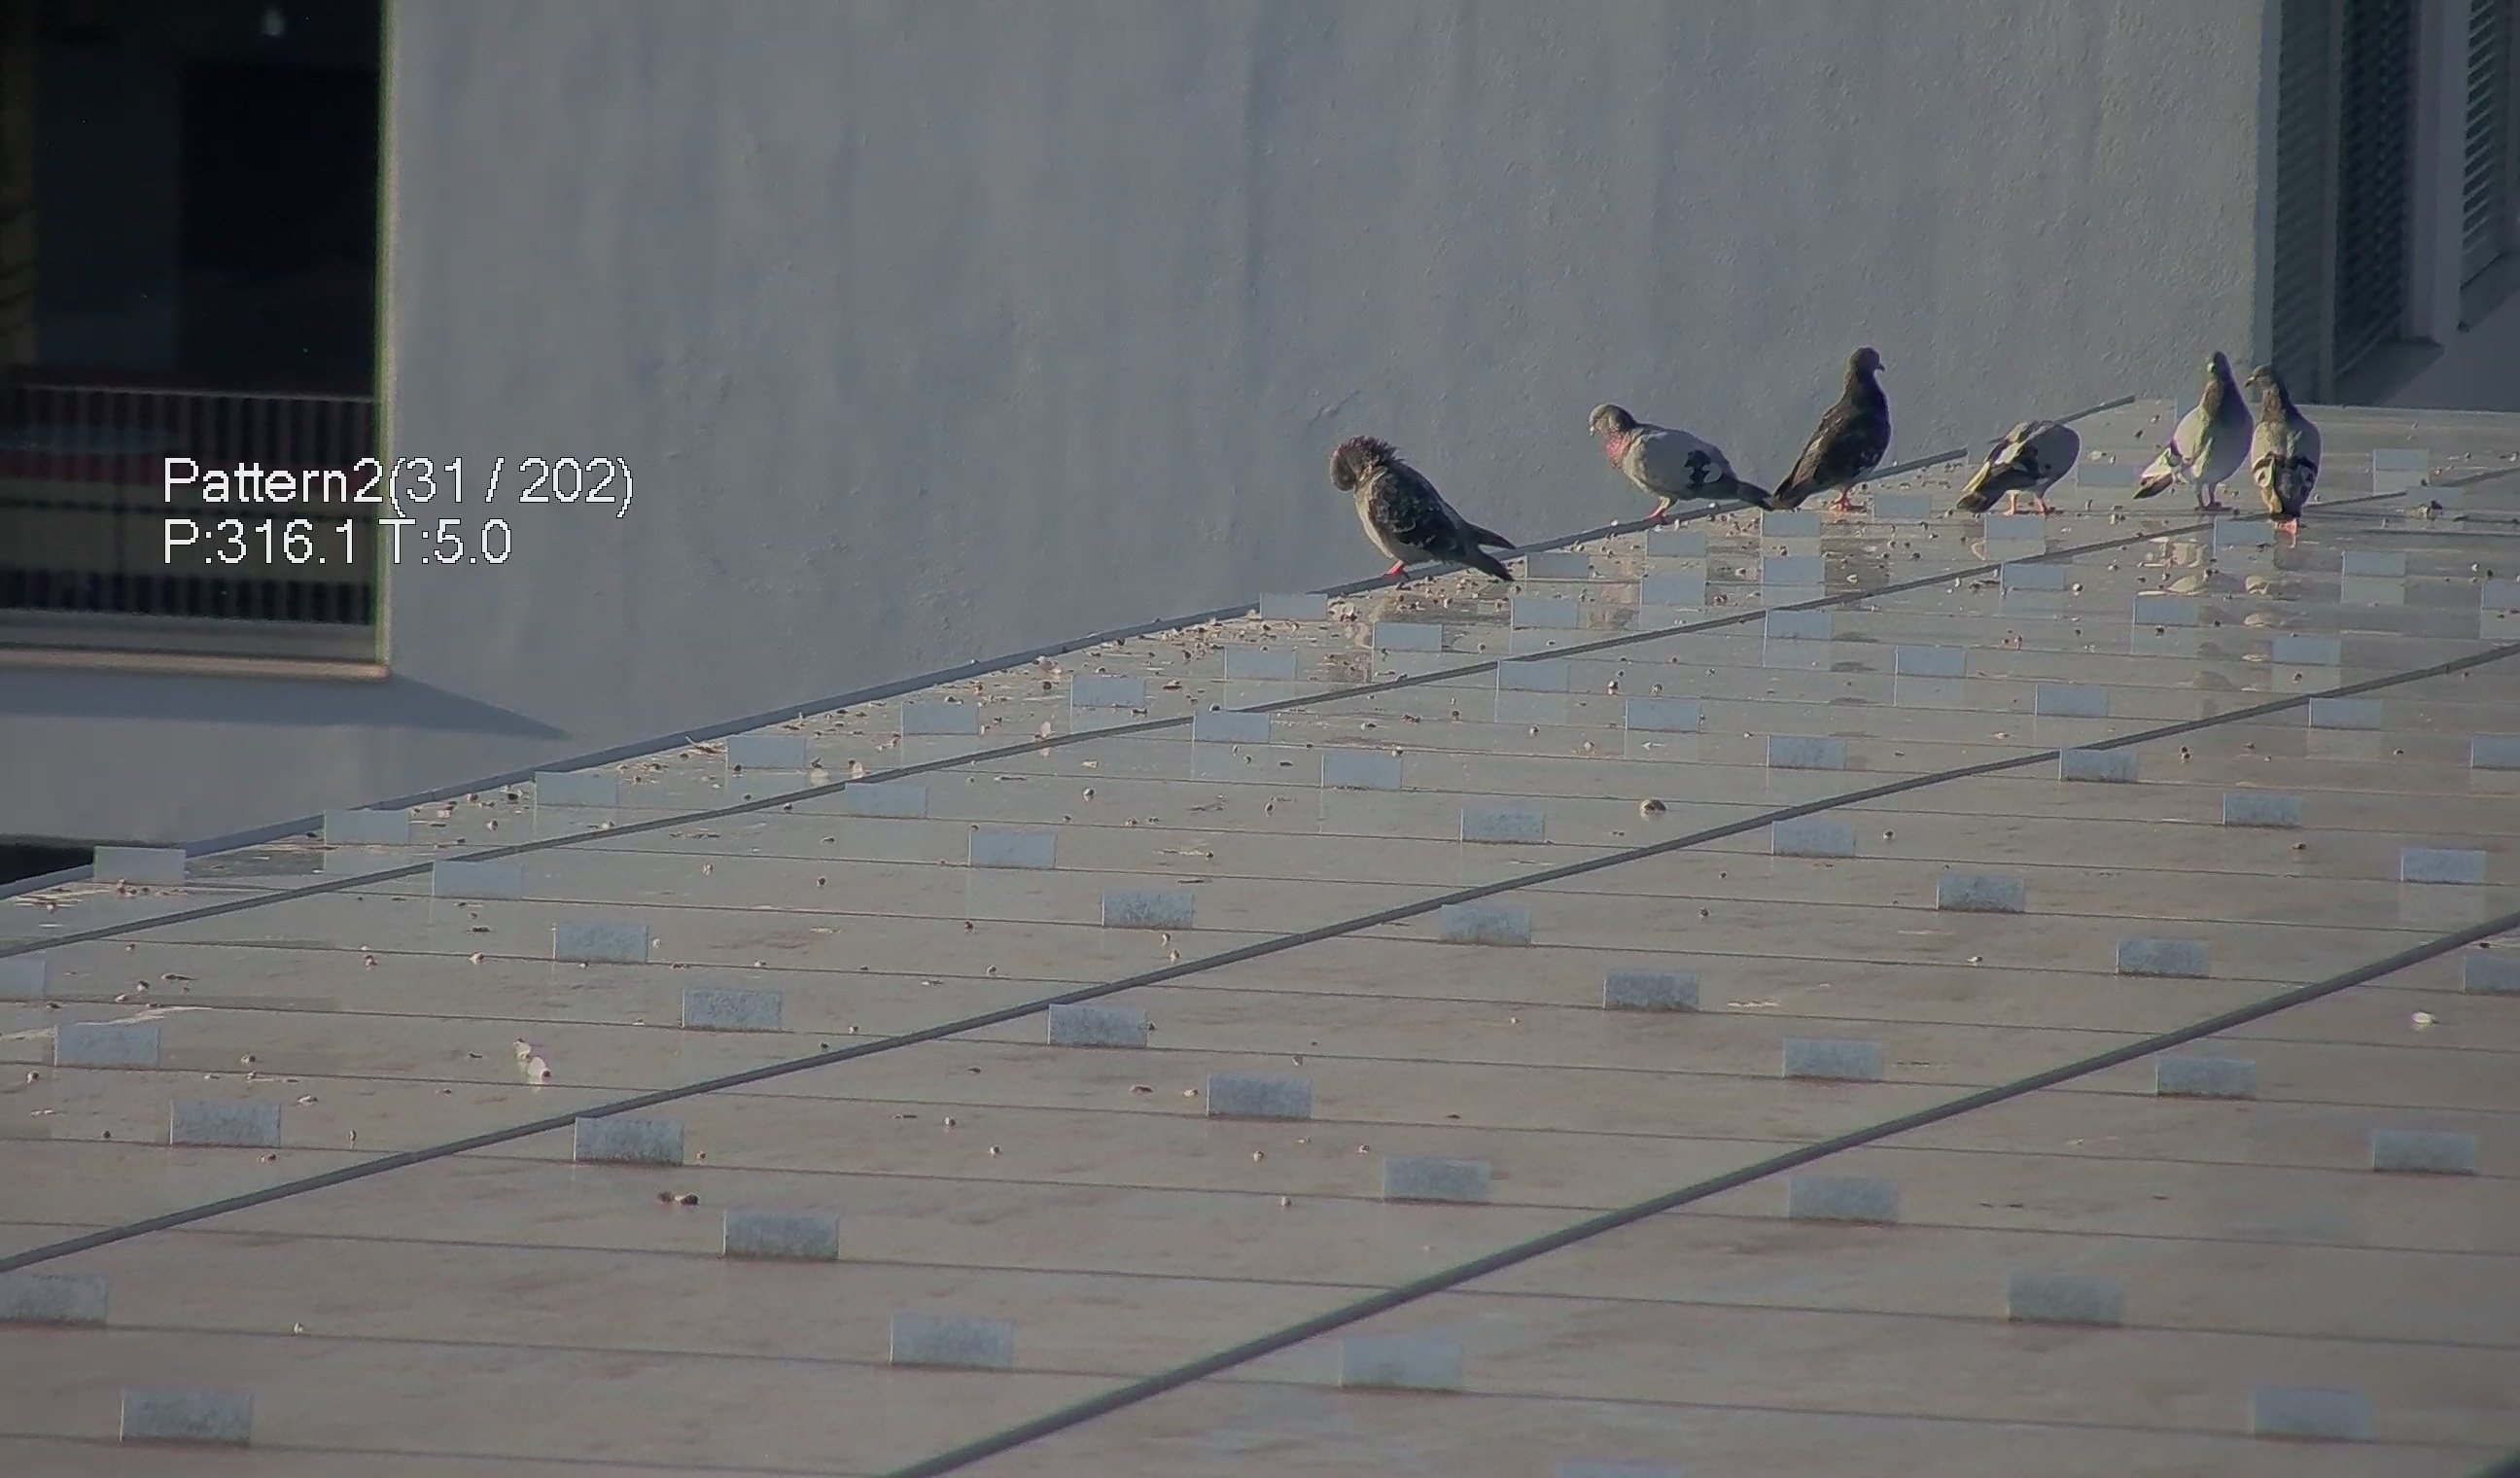Pigeon: (1317, 419, 1537, 598), (1581, 394, 1804, 519), (1769, 334, 1908, 510), (2137, 338, 2270, 517), (2239, 357, 2341, 540), (1963, 394, 2105, 523)
